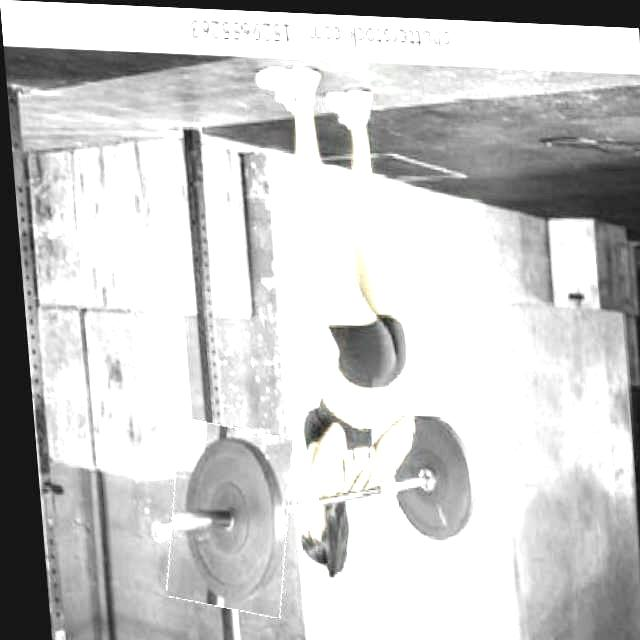barbell: (153, 419, 291, 614)
